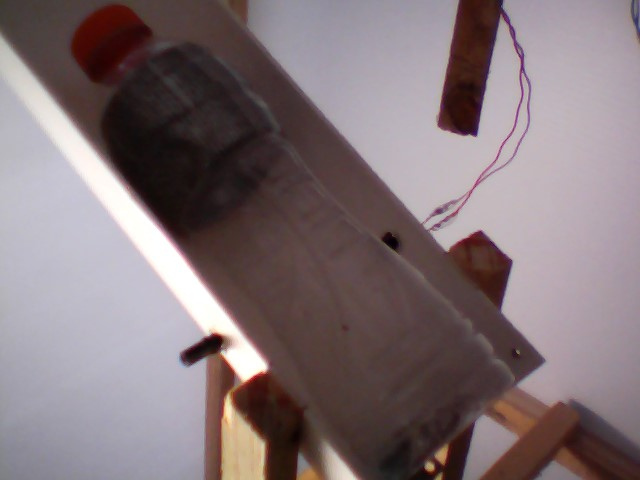plastico: (56, 2, 521, 477)
